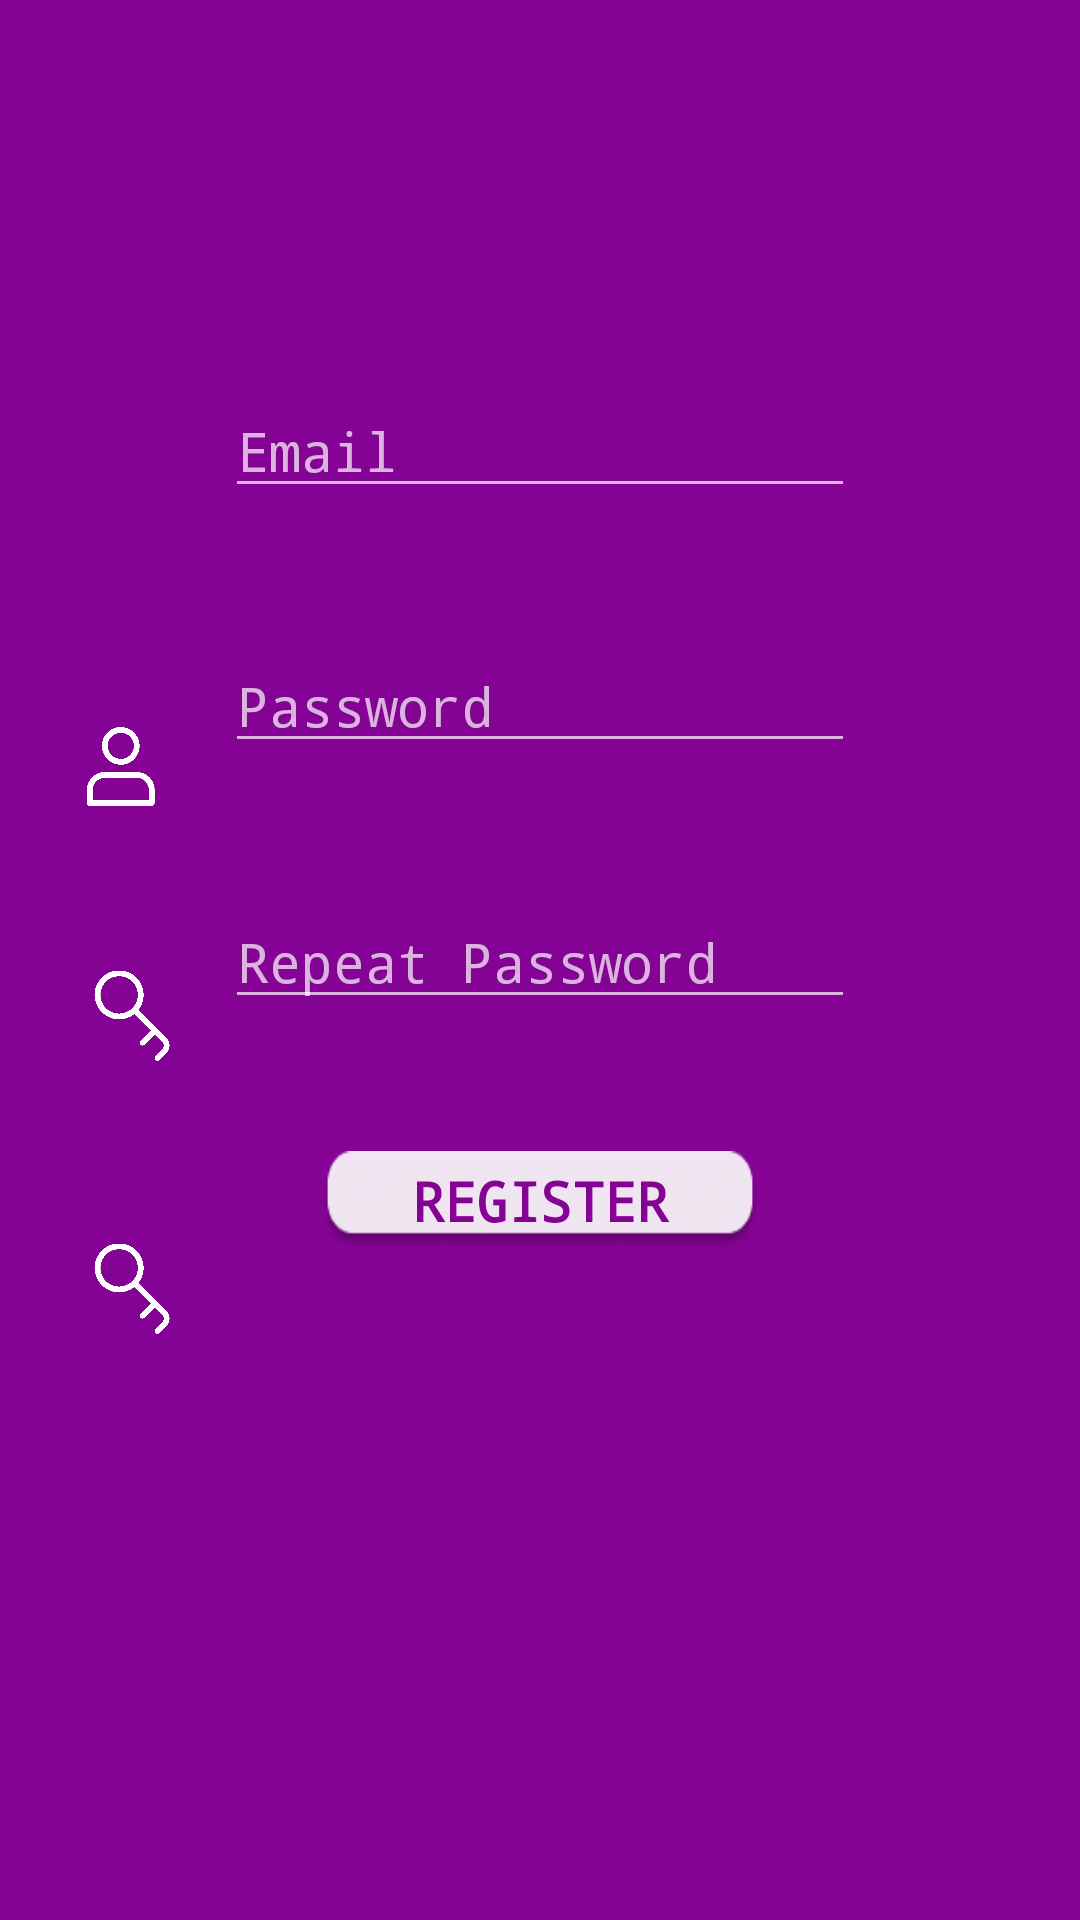

Named icons in this screenshot (1080 x 1920) and their centers, [x,y]:
key: [132,1016], [132,1289]
user: [121,766]
